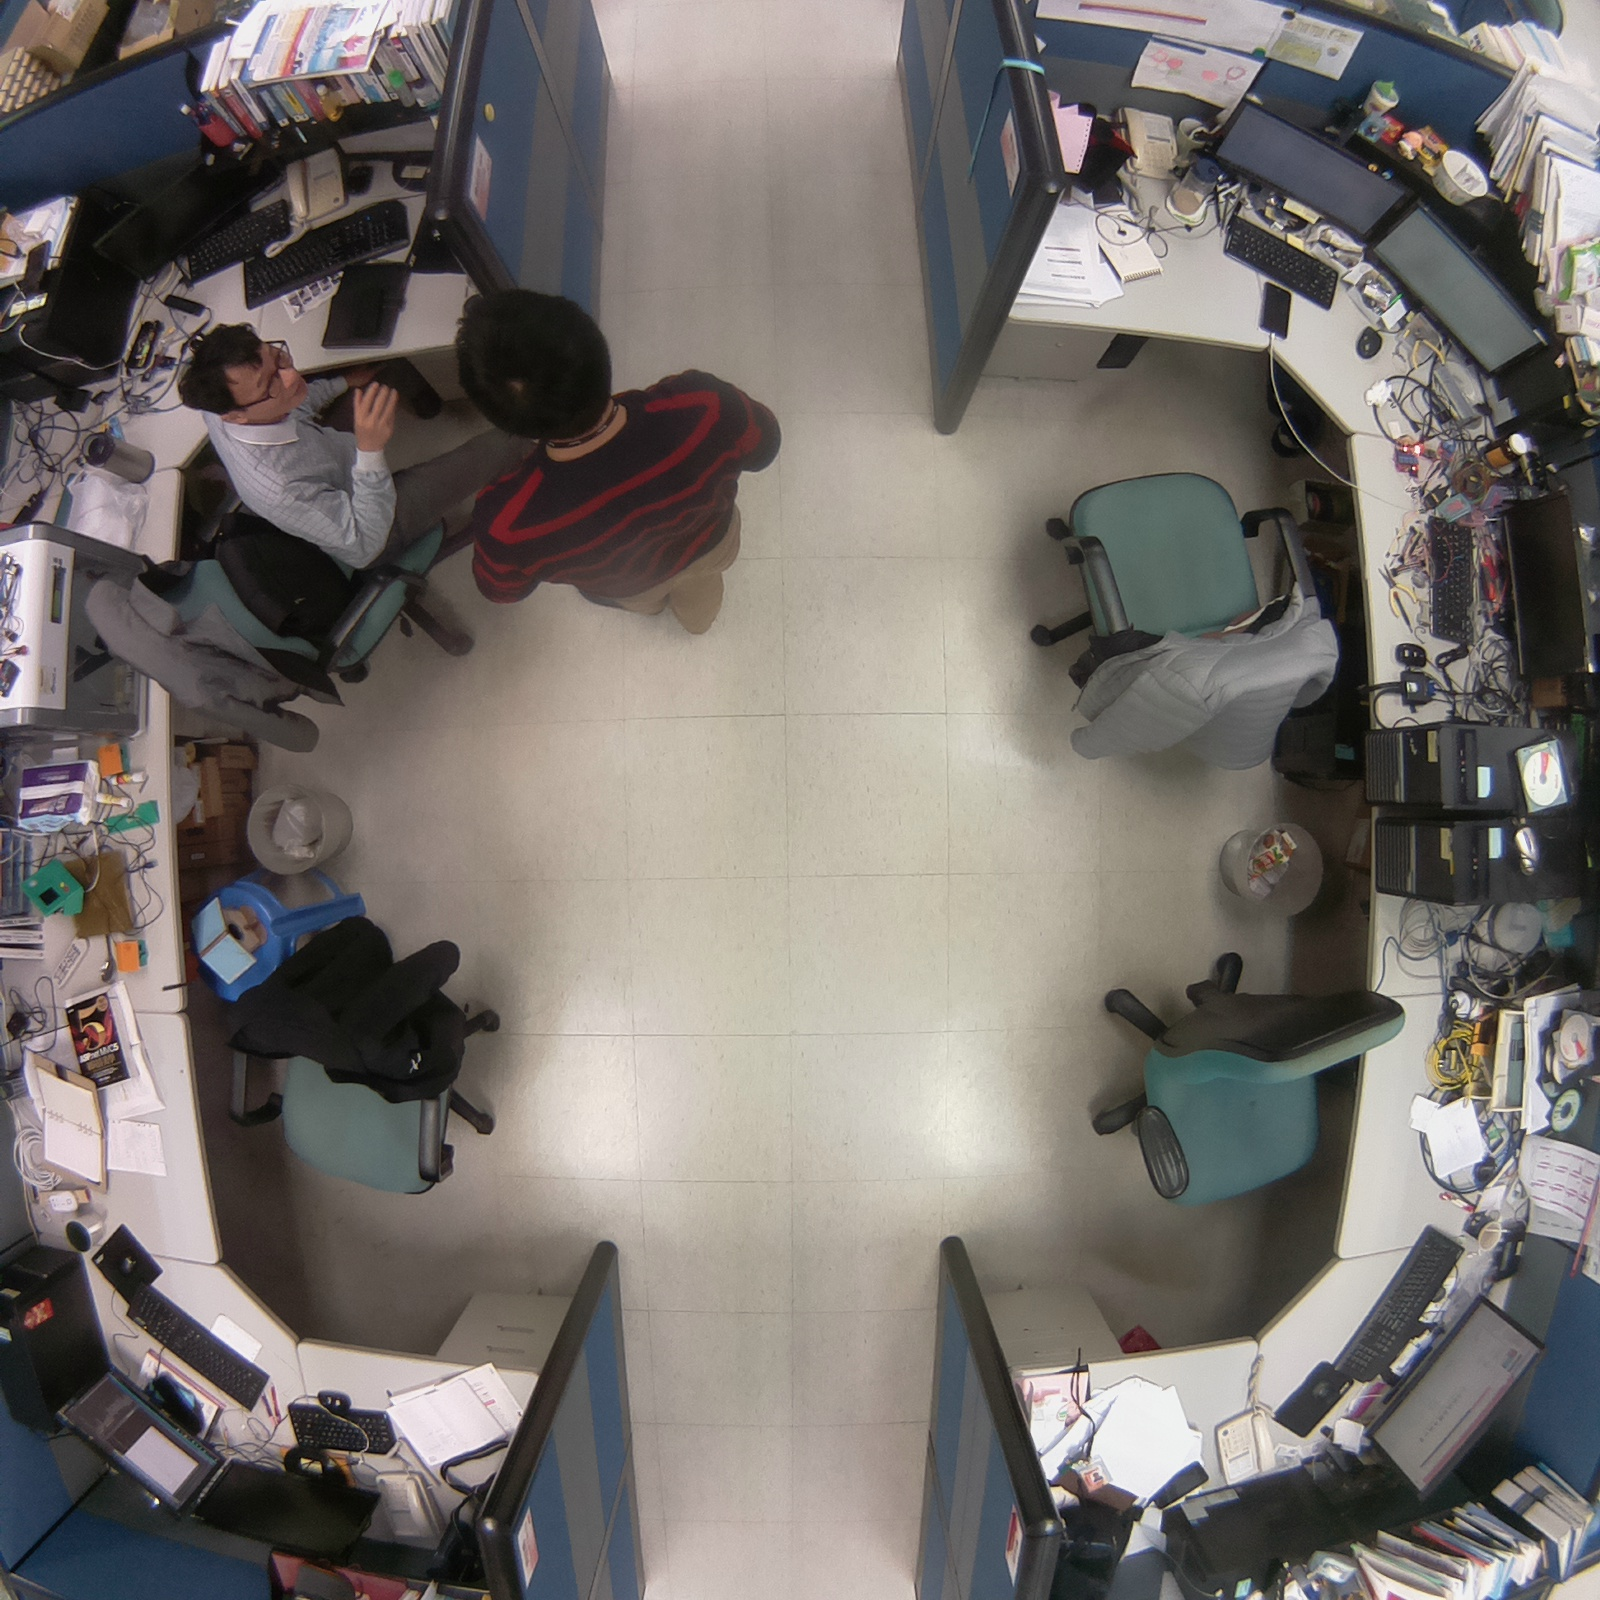chair: (1009, 447, 1353, 796), (1063, 934, 1414, 1217), (222, 904, 527, 1209)
head: (444, 278, 629, 448), (174, 317, 319, 440)
sitting: (78, 318, 458, 770)
standing: (439, 277, 788, 644)
